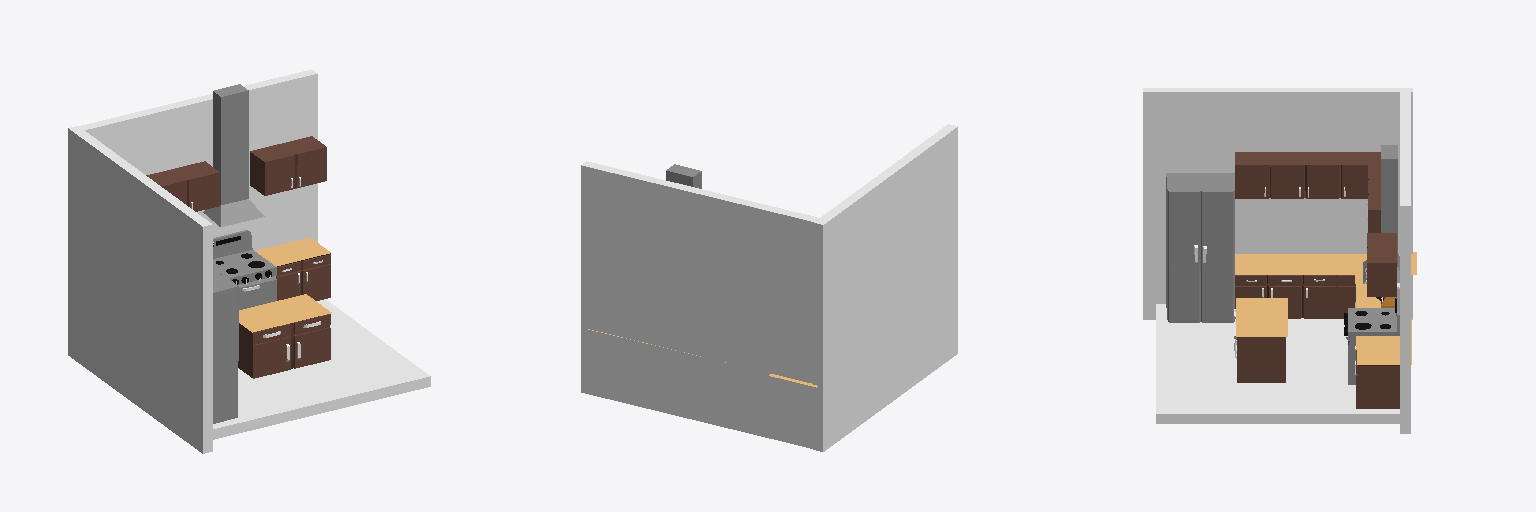
3 renders of one model, left to right at view 1: azimuth 30°, elevation 25°; view 2: azimuth 150°, elevation 25°; view 3: azimuth 270°, elevation 25°, orthographic.
Visible parts, largest first — view 1: group[number redacted], group[number redacted], group[number redacted], group[number redacted], group[number redacted], group[number redacted], group[number redacted], group[number redacted], group[number redacted], group[number redacted]; view 2: group[number redacted], group[number redacted], group[number redacted]; view 3: group[number redacted], group[number redacted], group[number redacted], group[number redacted], group[number redacted], group[number redacted], group[number redacted], group[number redacted], group[number redacted], group[number redacted], group[number redacted], group[number redacted].
Part boxes in pixels (bbox=[...]): group[number redacted]: bbox=[68, 126, 212, 453]; group[number redacted]: bbox=[79, 69, 317, 250]; group[number redacted]: bbox=[213, 299, 430, 439]; group[number redacted]: bbox=[238, 294, 331, 378]; group[number redacted]: bbox=[203, 84, 264, 226]; group[number redacted]: bbox=[213, 267, 238, 423]; group[number redacted]: bbox=[250, 136, 326, 195]; group[number redacted]: bbox=[255, 237, 330, 300]; group[number redacted]: bbox=[213, 230, 276, 309]; group[number redacted]: bbox=[146, 161, 219, 211]; group[number redacted]: bbox=[581, 161, 818, 448]; group[number redacted]: bbox=[813, 124, 957, 451]; group[number redacted]: bbox=[666, 164, 701, 188]; group[number redacted]: bbox=[1143, 88, 1412, 319]; group[number redacted]: bbox=[1156, 304, 1399, 423]; group[number redacted]: bbox=[1166, 173, 1234, 322]; group[number redacted]: bbox=[1235, 252, 1416, 318]; group[number redacted]: bbox=[1235, 152, 1380, 198]; group[number redacted]: bbox=[1236, 298, 1287, 382]; group[number redacted]: bbox=[1355, 270, 1411, 408]; group[number redacted]: bbox=[1400, 92, 1410, 433]; group[number redacted]: bbox=[1367, 233, 1396, 296]; group[number redacted]: bbox=[1363, 145, 1399, 283]; group[number redacted]: bbox=[1348, 289, 1399, 384]; group[number redacted]: bbox=[1368, 165, 1380, 232].
Size of the model in its own units: 1.95 by 1.81 by 1.9.